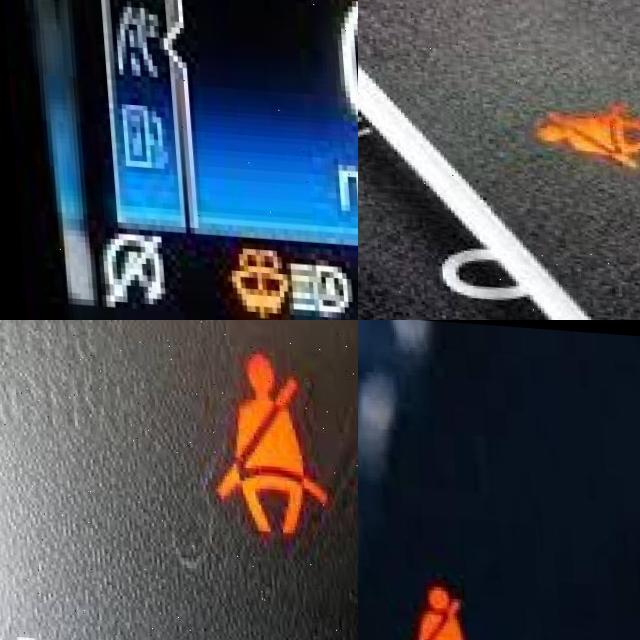Seat Belt: (203, 348, 323, 530), (526, 95, 640, 166), (398, 580, 475, 640)
Washer Fluid: (219, 244, 283, 314)
